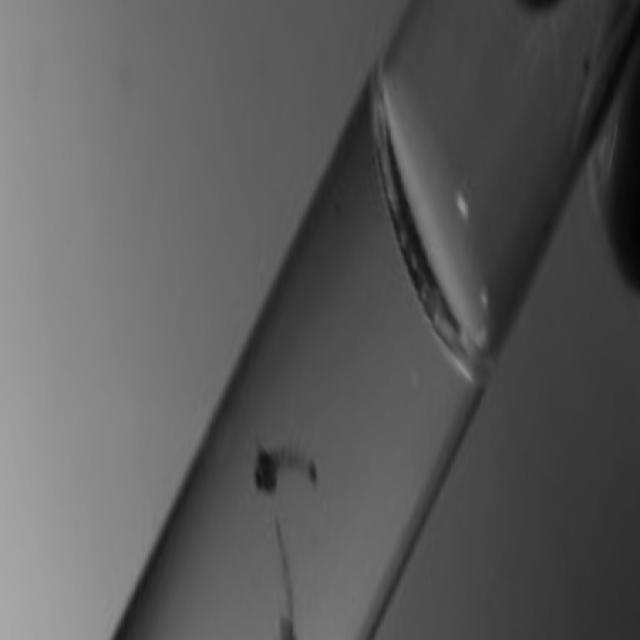larvas: (271, 517, 300, 640), (255, 445, 313, 487)
